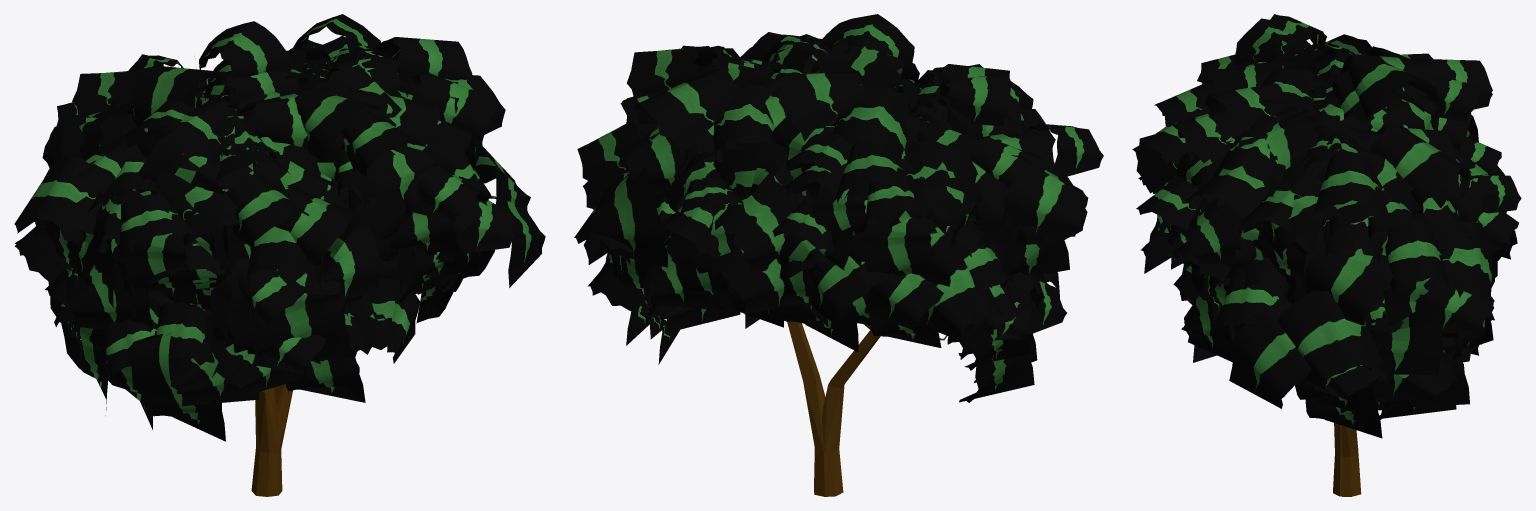
File: mango tree medium new.glb
3 views of the same model, side by side, from view 1: azimuth 30°, elevation 25°; view 2: azimuth 150°, elevation 25°; view 3: azimuth 270°, elevation 25° (orthographic). The views are drawn at different scales.
Parts seen in each view (by area): view 1: MeshRenderer2.003, MeshRenderer3; view 2: MeshRenderer2.003, MeshRenderer3; view 3: MeshRenderer2.003, MeshRenderer3.
Part boxes in pixels (x1,y1,x2,y2): MeshRenderer2.003: [14, 14, 545, 441]; MeshRenderer3: [251, 384, 292, 496]; MeshRenderer2.003: [574, 14, 1103, 402]; MeshRenderer3: [787, 321, 880, 496]; MeshRenderer2.003: [1132, 14, 1521, 438]; MeshRenderer3: [1333, 423, 1361, 496].
Bounding box in the file's own units: 5.47 × 4.54 × 3.81.
2 materials, 1 textured.
